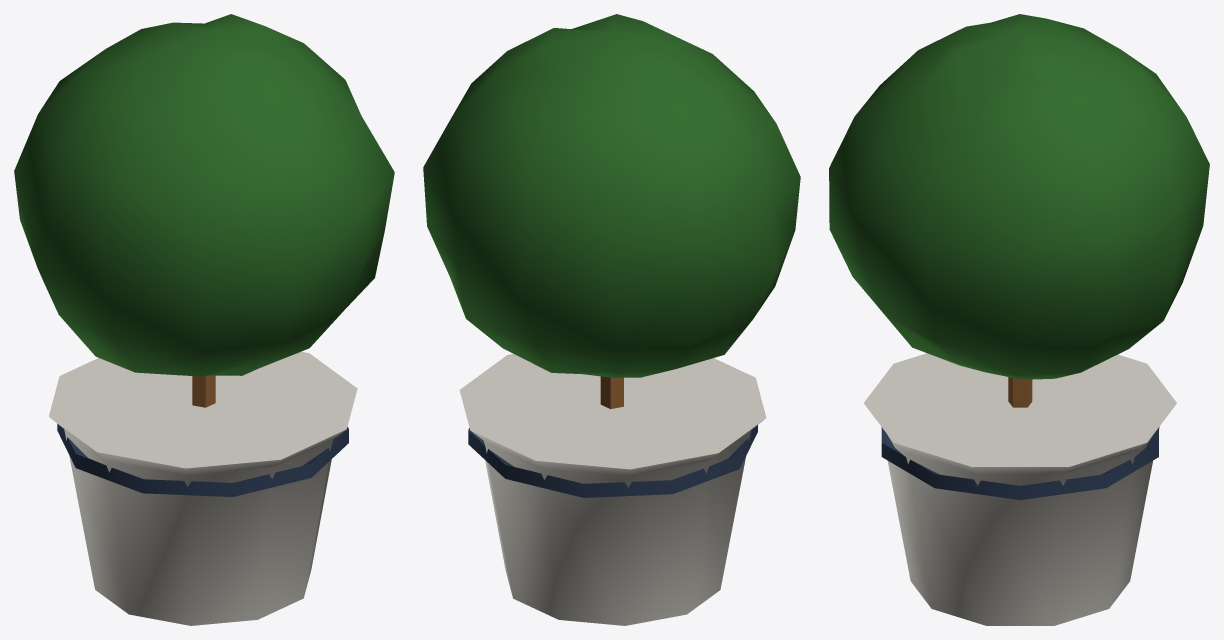
Rendered from 156_topiaire_buis.fbx.
3 views of the same model, side by side, from view 1: azimuth 30°, elevation 25°; view 2: azimuth 150°, elevation 25°; view 3: azimuth 270°, elevation 25° (orthographic).
Parts seen in each view (by area): view 1: Buis, Pot; view 2: Buis, Pot; view 3: Buis, Pot.
Boxes of the visible parts, x1,y1,x2,y2 form: Buis: (14, 14, 394, 376); Pot: (49, 351, 357, 625); Buis: (423, 14, 800, 377); Pot: (459, 354, 766, 625); Buis: (829, 14, 1209, 379); Pot: (864, 353, 1176, 625).
Size of the model in its own units: 0.7 by 1.12 by 0.7.
1 material, 1 textured.
